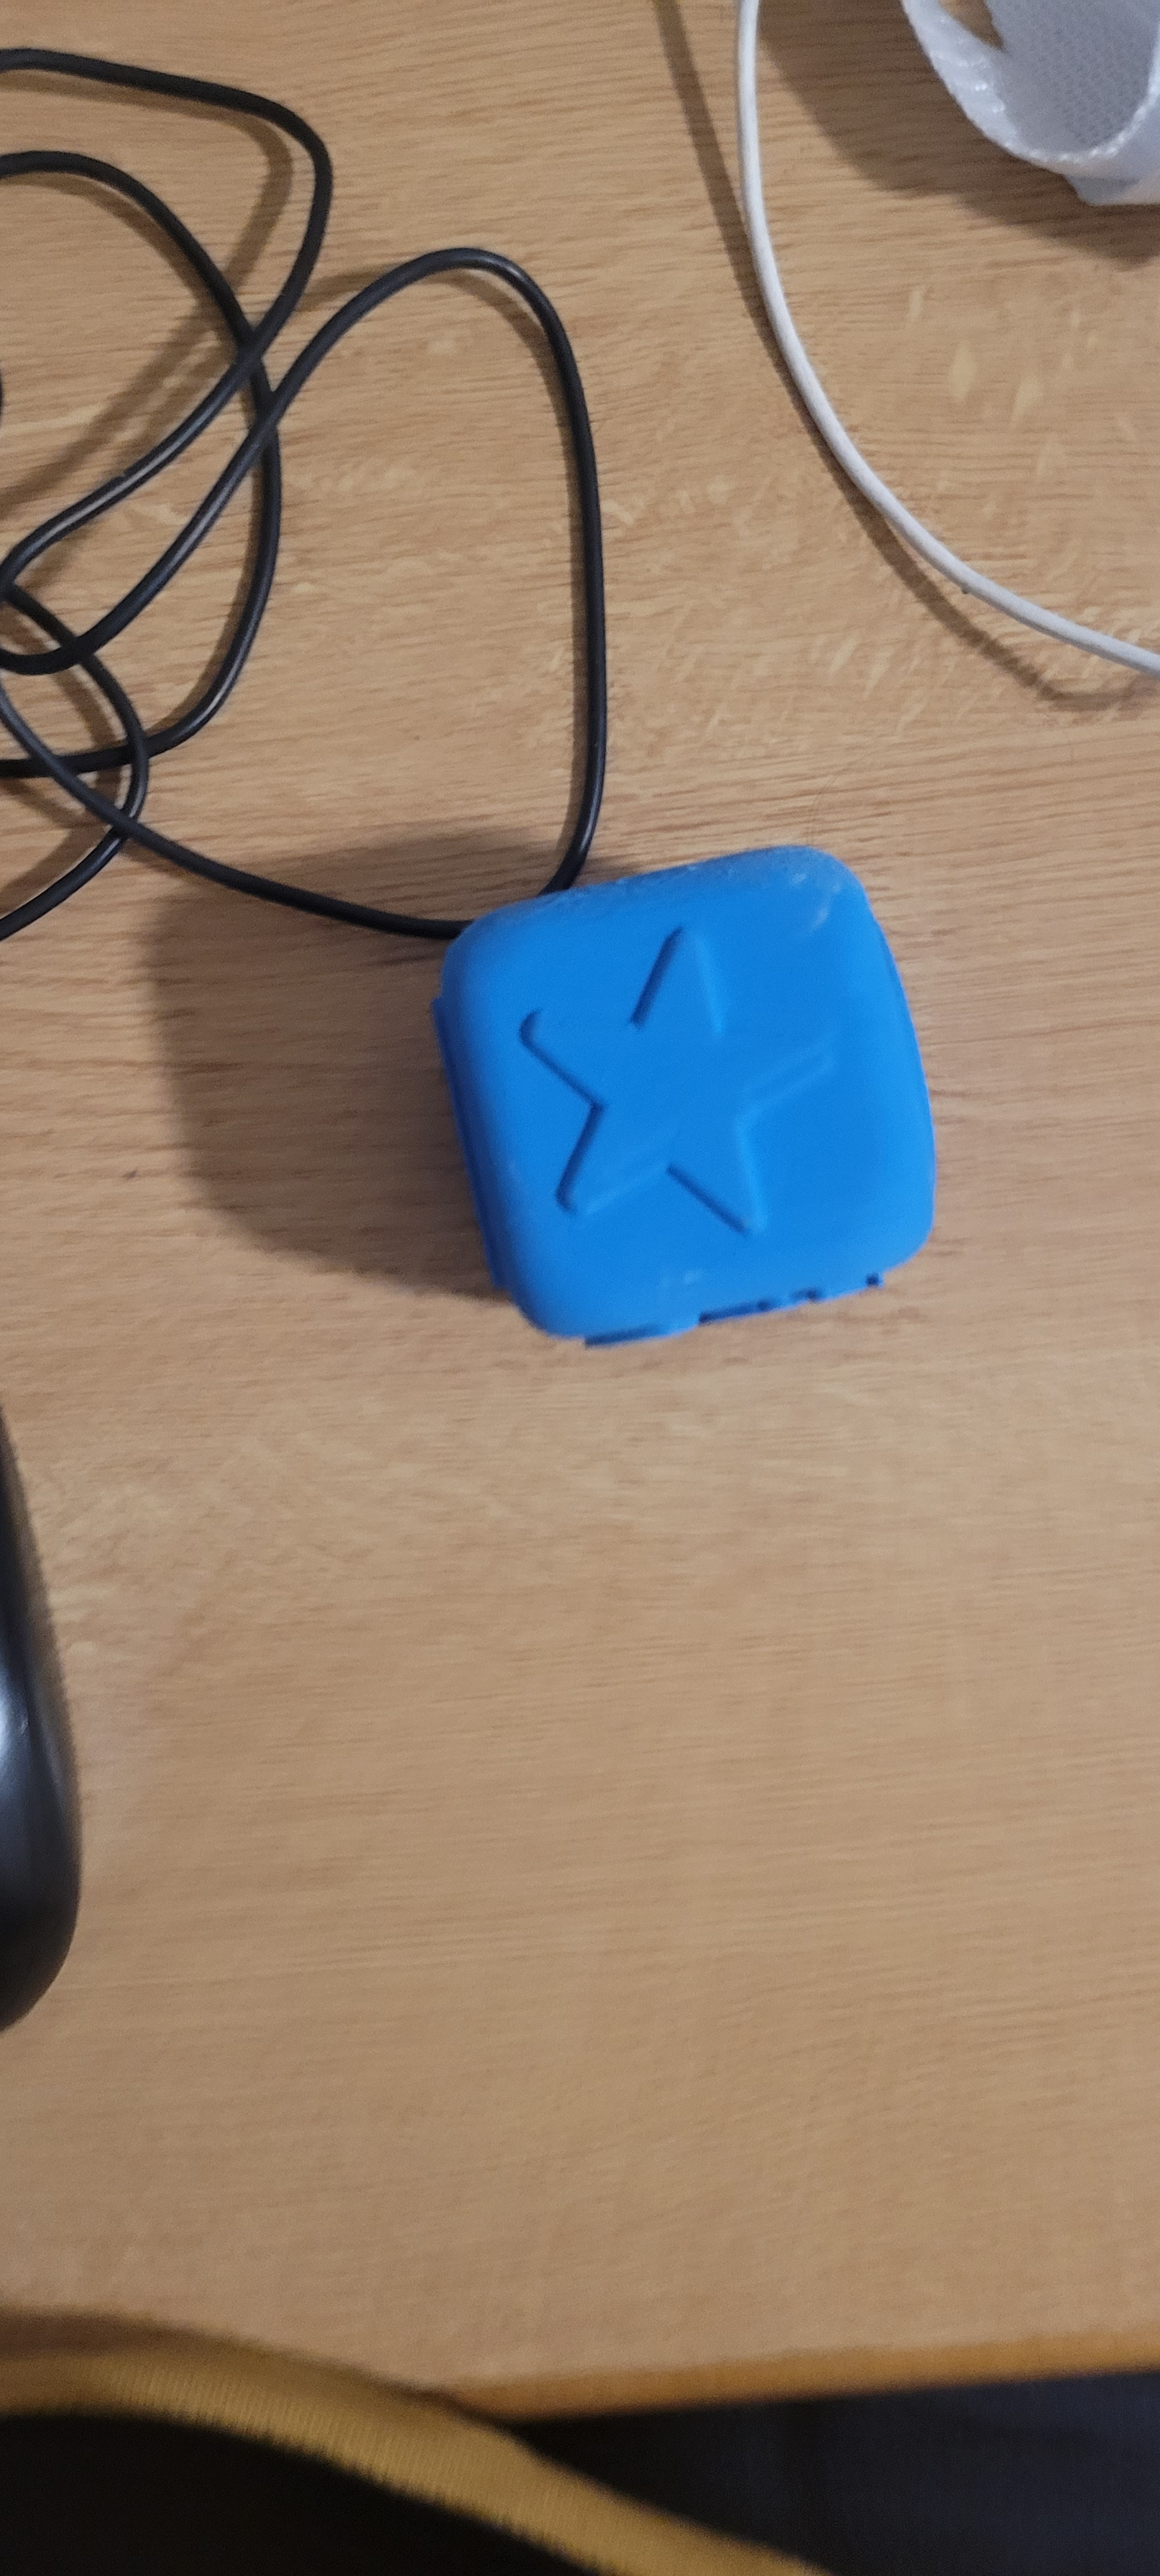Star: (480, 884, 854, 1295)
